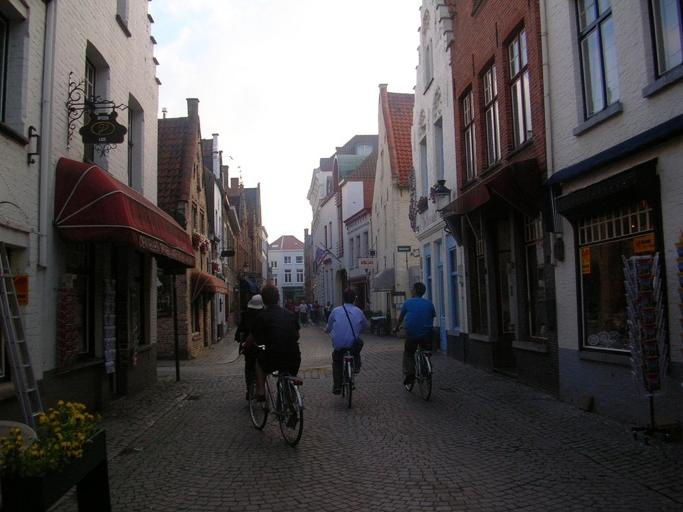non-vehicle: (245, 363, 305, 448), (392, 322, 434, 403), (341, 349, 355, 410)
